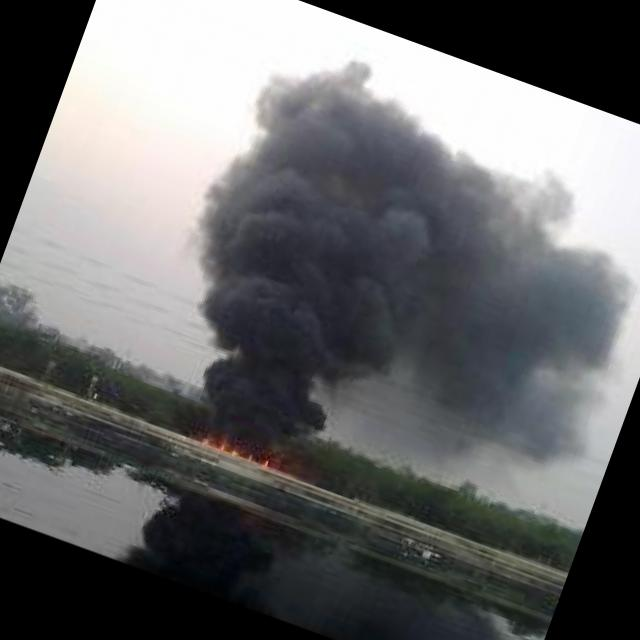fire: (195, 432, 240, 456), (250, 452, 275, 471)
smoke: (121, 37, 640, 568)
